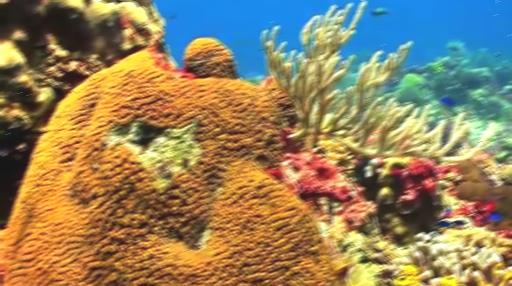Fish: (439, 96, 457, 107), (372, 7, 388, 16), (437, 219, 452, 227), (488, 213, 502, 221), (451, 219, 466, 226)
